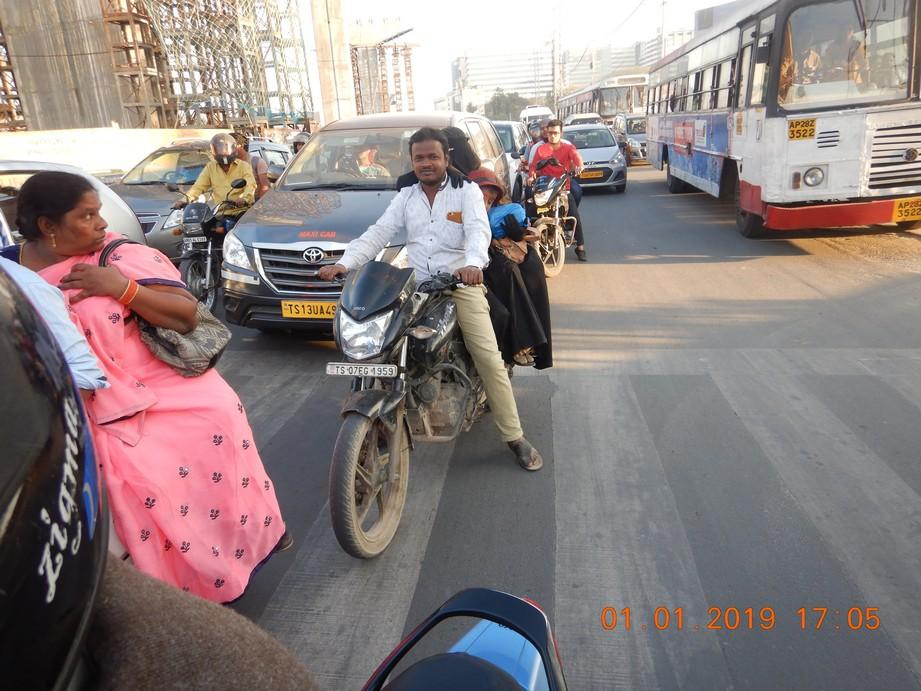plate: (326, 363, 398, 378)
